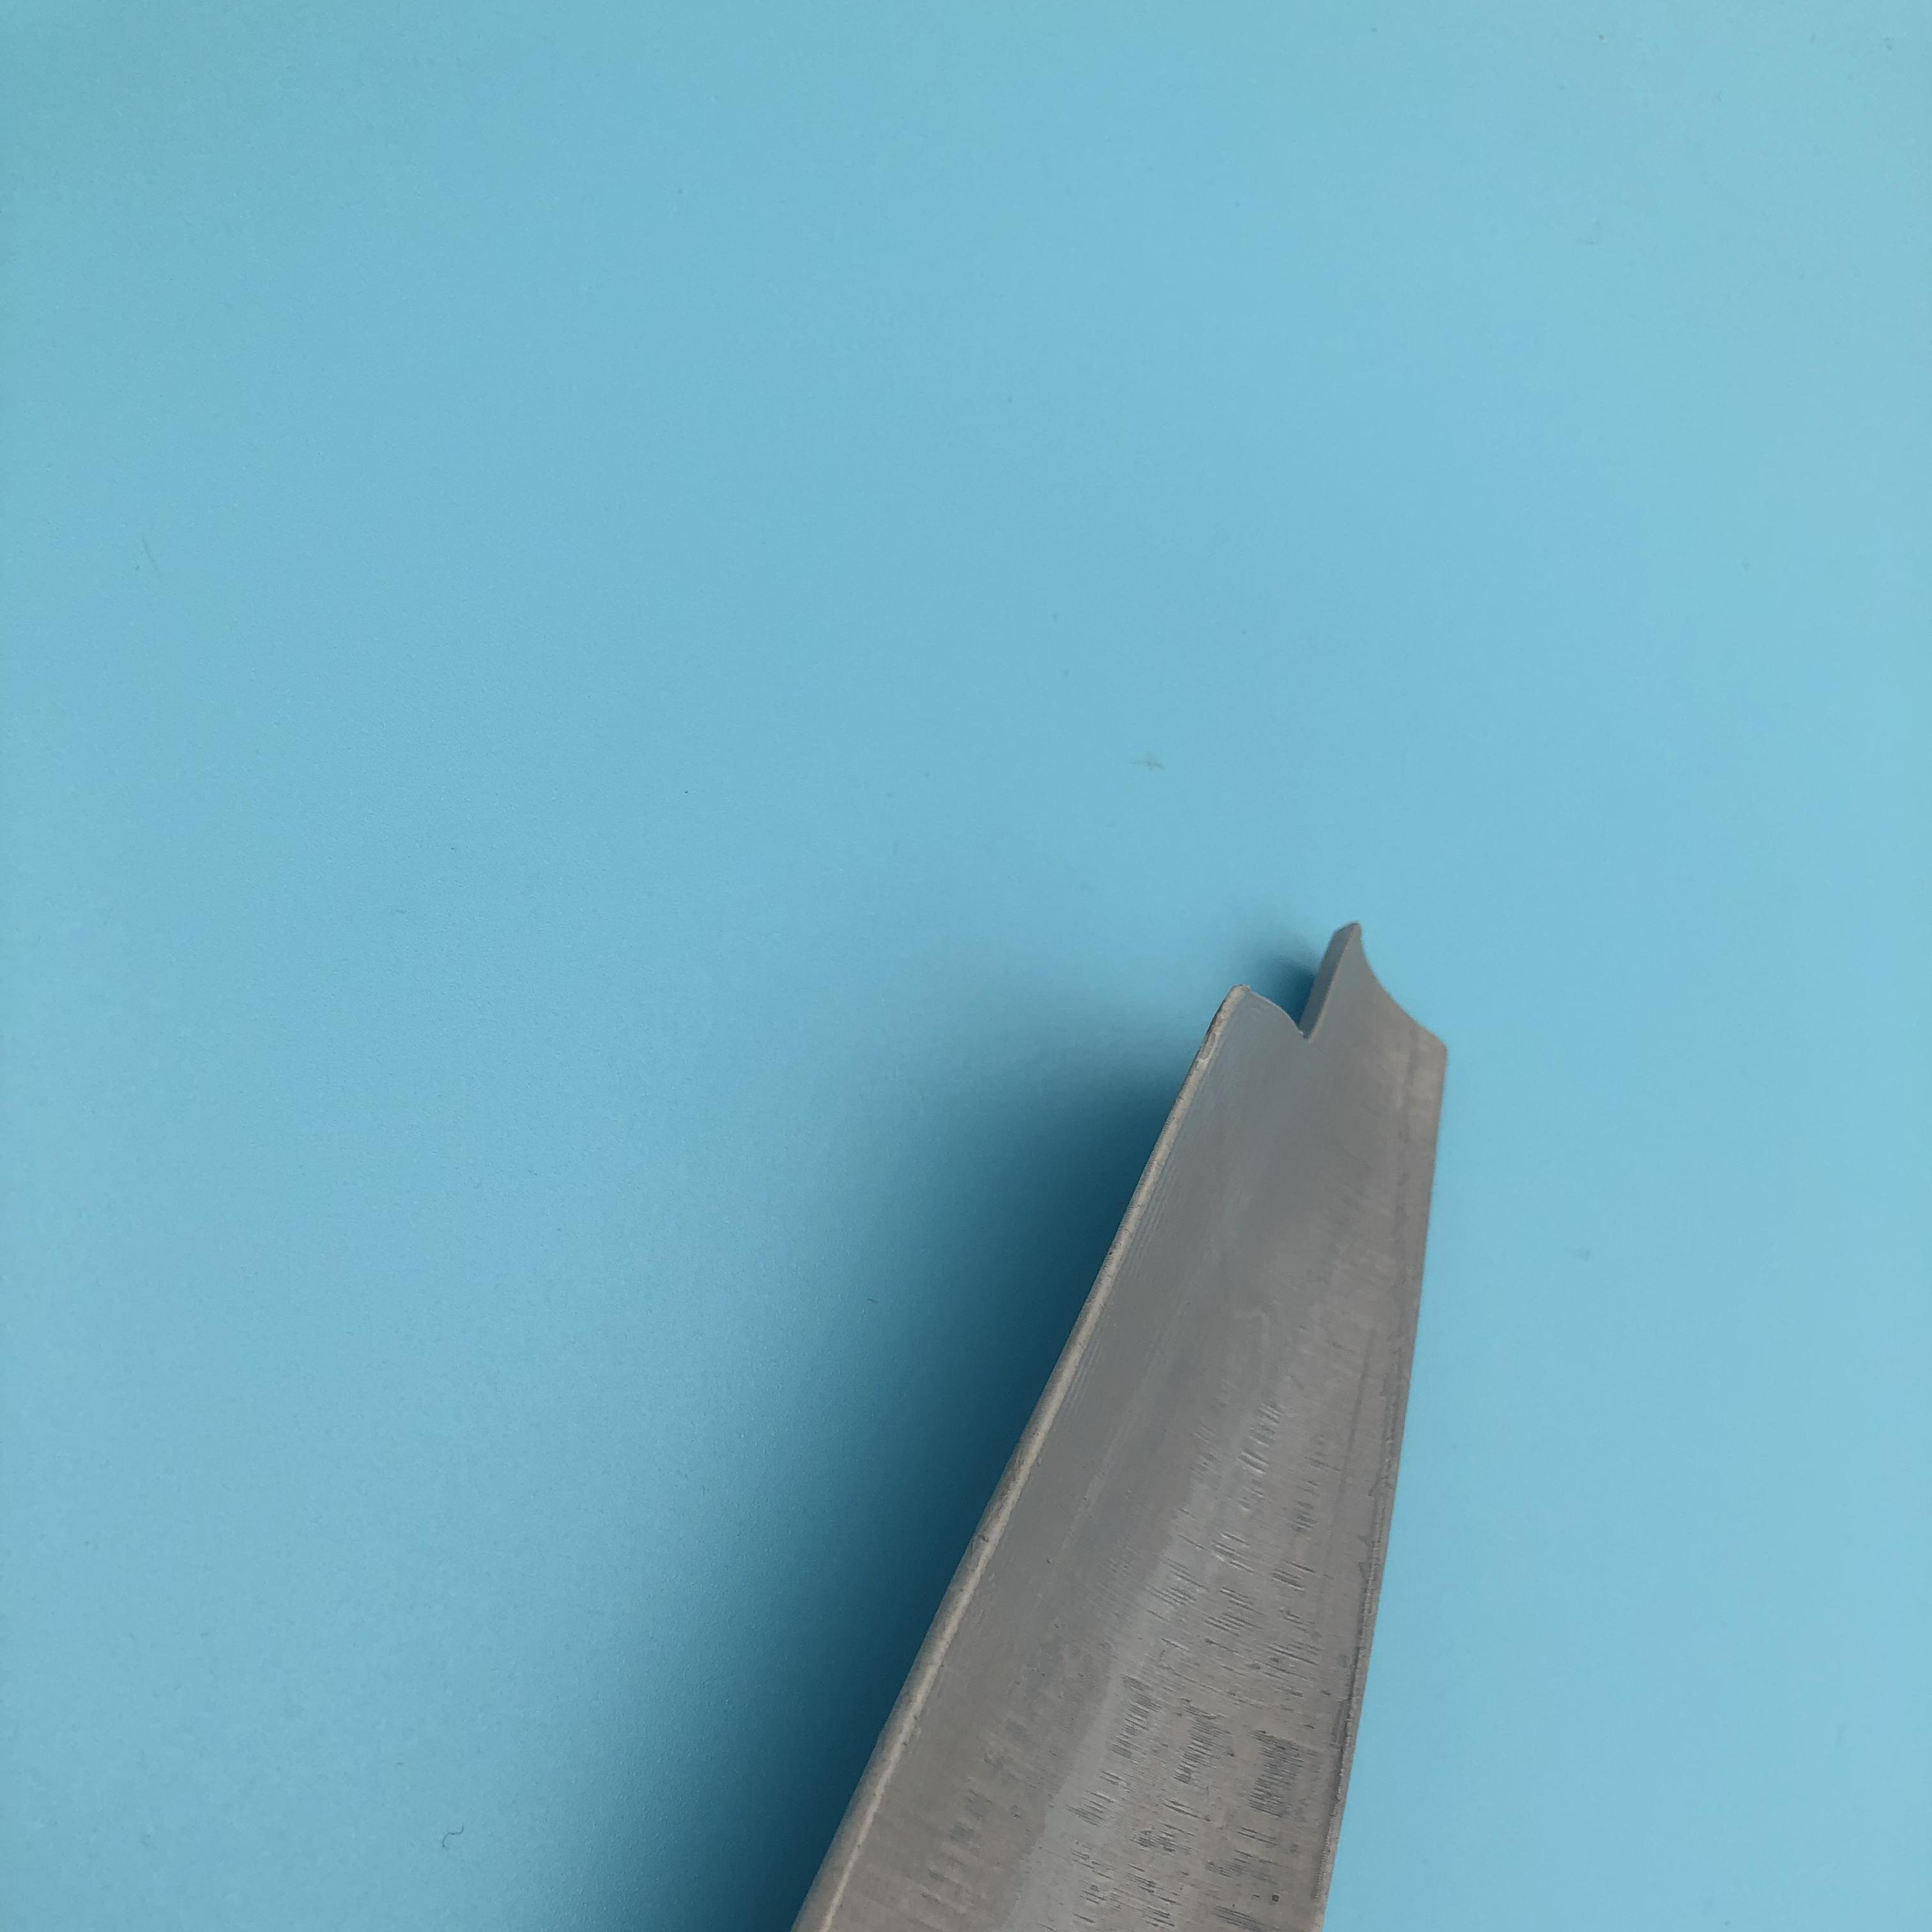fracture: (1221, 897, 1366, 1047)
